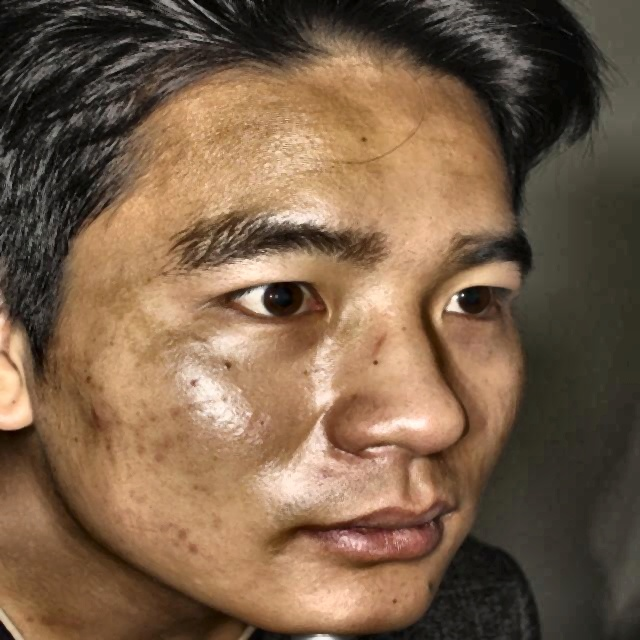comedone: (170, 533, 220, 566), (95, 401, 111, 437)
